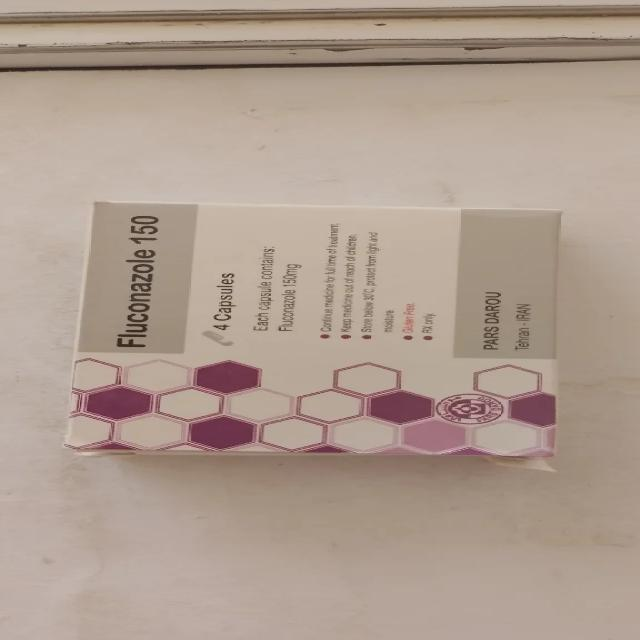drug-name: (110, 213, 164, 349)
